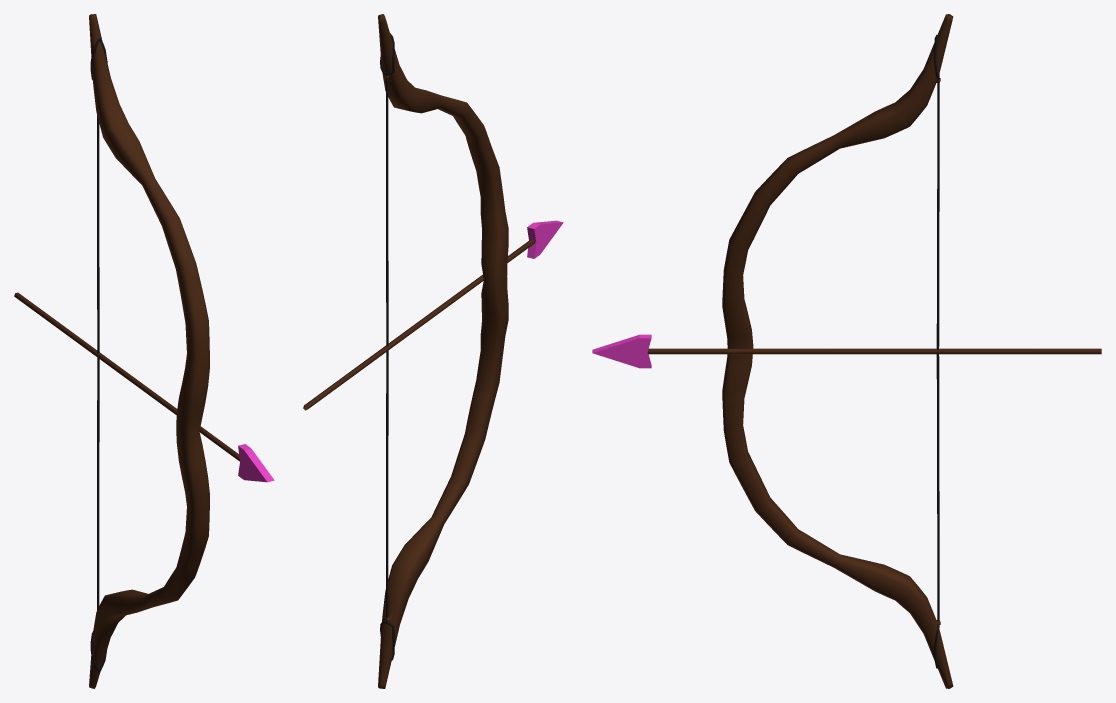
The model's file is arcos.fbx.
3 renders of one model, left to right at view 1: azimuth 30°, elevation 25°; view 2: azimuth 150°, elevation 25°; view 3: azimuth 270°, elevation 25°, orthographic.
Visible parts, largest first — view 1: arco.001, Cube, Plane.001; view 2: arco.001, Cube, Plane.001; view 3: arco.001, Cube, Plane.001.
Part boxes in pixels (<box>): arco.001: <box>89,14,209,688</box>; Cube: <box>14,292,274,482</box>; Plane.001: <box>90,38,107,671</box>; arco.001: <box>378,14,508,688</box>; Cube: <box>303,220,563,410</box>; Plane.001: <box>380,33,394,660</box>; arco.001: <box>722,14,953,688</box>; Cube: <box>592,334,1101,368</box>; Plane.001: <box>934,34,939,668</box>.
Size of the model in its own units: 3.76 by 90.84 by 62.24.
